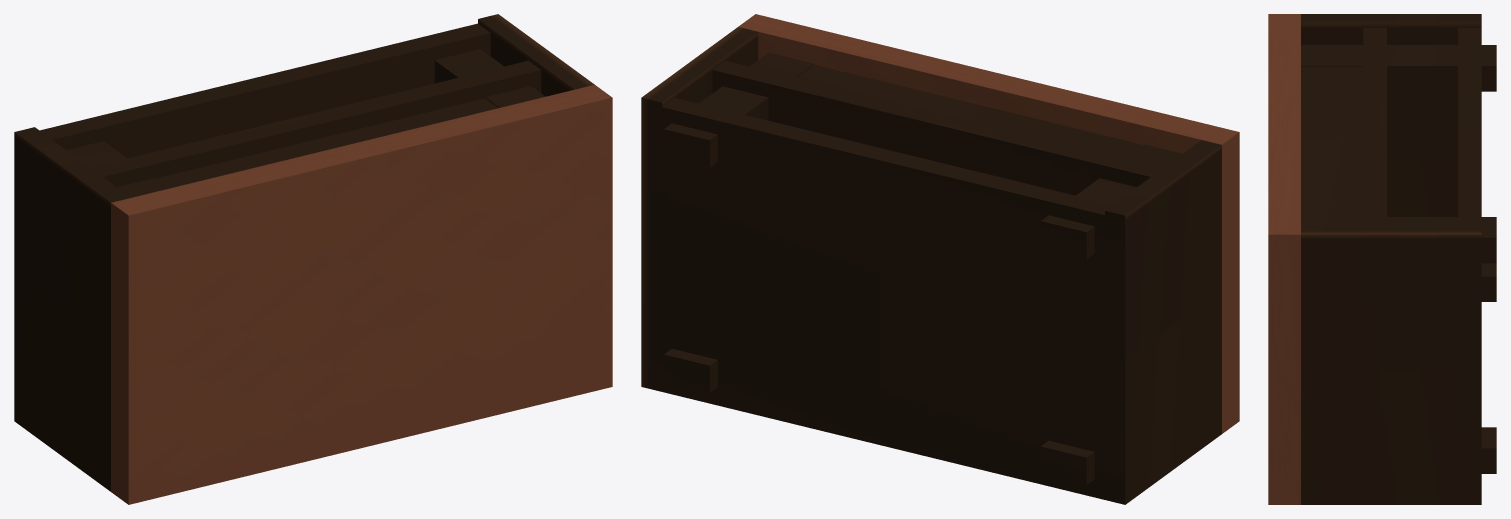
Rendered from pz_table_tables_low_01_brown.obj.
3 views of the same model, side by side, from view 1: azimuth 30°, elevation 25°; view 2: azimuth 150°, elevation 25°; view 3: azimuth 270°, elevation 25° (orthographic). The views are drawn at different scales.
Size of the model in its own units: 0.875 by 0.5 by 0.3827.
Materials: 1 (1 with a texture image).
